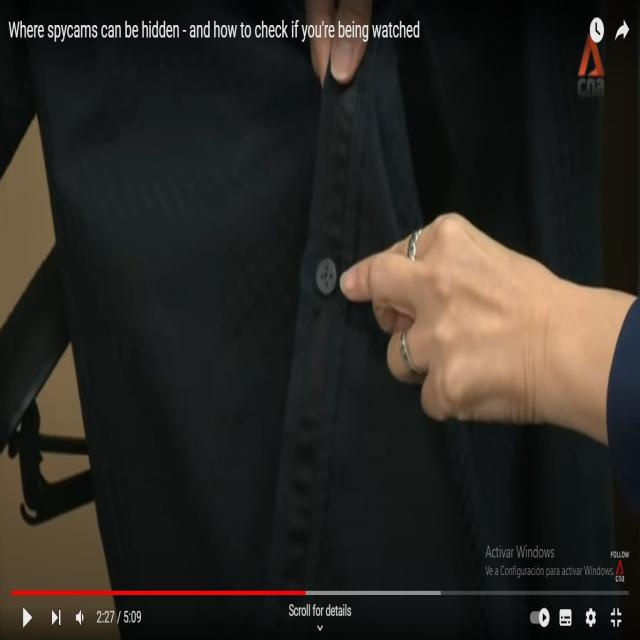hidden camera: (321, 268, 332, 285)
